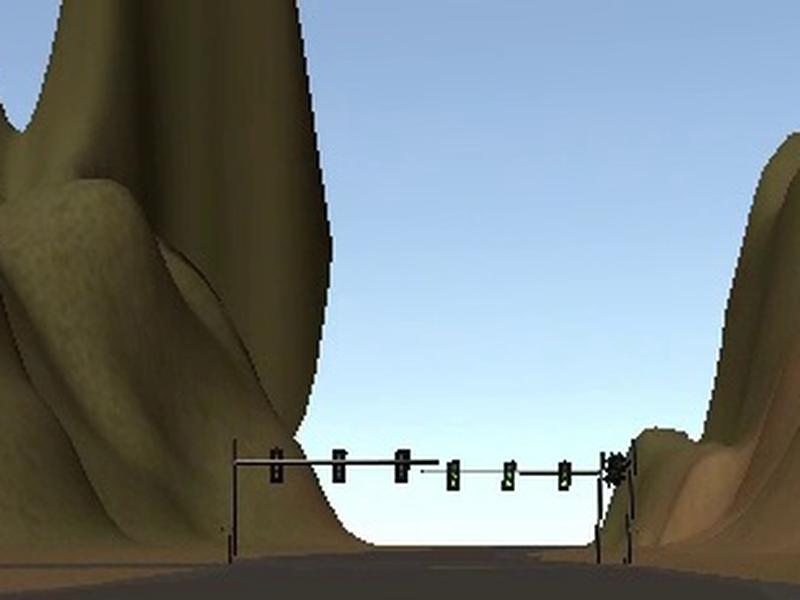Green: (499, 460, 517, 491), (557, 460, 574, 491), (445, 459, 461, 491)
